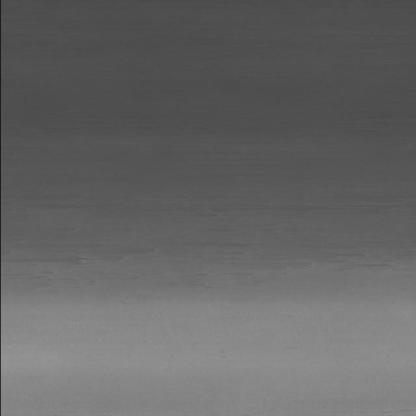silk_spot: (79, 217, 390, 282)
